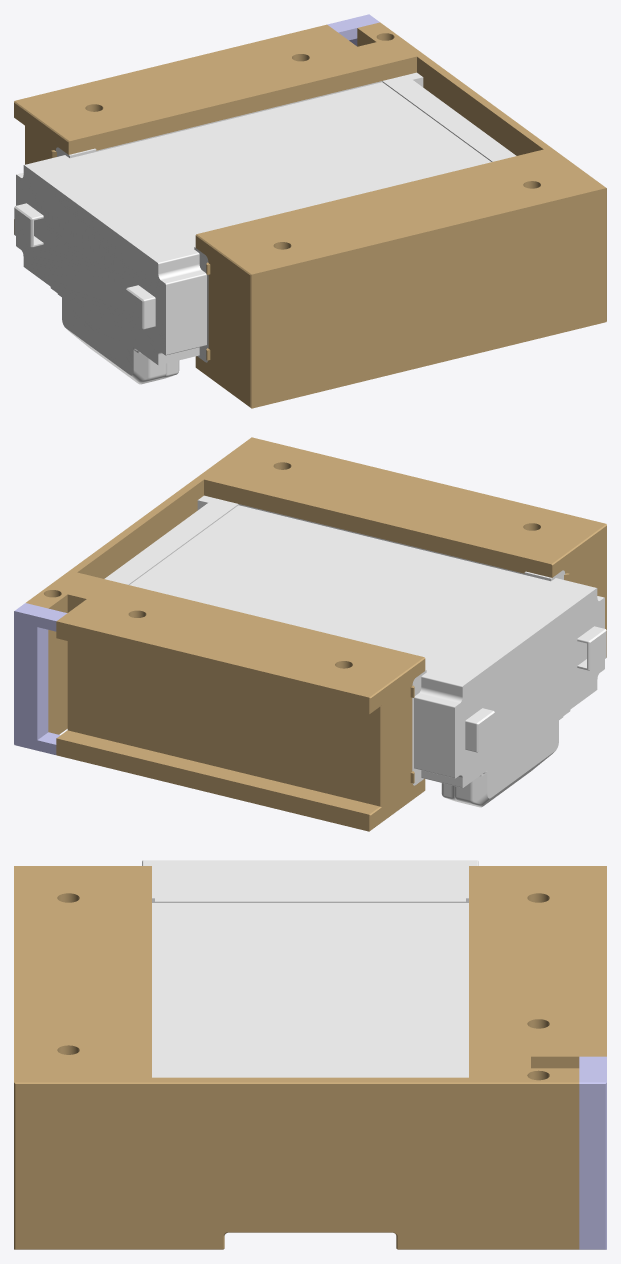
The model's file is battery_inner_set_L v1.fbx.
The picture shows the model from 3 angles, top to bottom: view 1: azimuth 30°, elevation 25°; view 2: azimuth 150°, elevation 25°; view 3: azimuth 270°, elevation 25°; orthographic projection. The views are drawn at different scales.
Parts seen in each view (by area): view 1: Body4, Body1, Body3, Body2; view 2: Body4, Body1, Body3, Body2; view 3: Body4, Body1, Body3, Body2.
Part boxes in pixels (box(x1,y1,x2,y2)): Body4: box(14, 22, 606, 341); Body1: box(14, 72, 516, 384); Body3: box(14, 219, 606, 408); Body2: box(327, 14, 379, 46); Body4: box(26, 437, 606, 756); Body1: box(104, 495, 606, 807); Body3: box(48, 592, 606, 831); Body2: box(14, 603, 67, 754); Body4: box(14, 866, 606, 1166); Body1: box(142, 860, 478, 1077); Body3: box(14, 1166, 579, 1249); Body2: box(579, 1056, 606, 1249).
Size of the model in its own units: 429 by 175 by 430.
